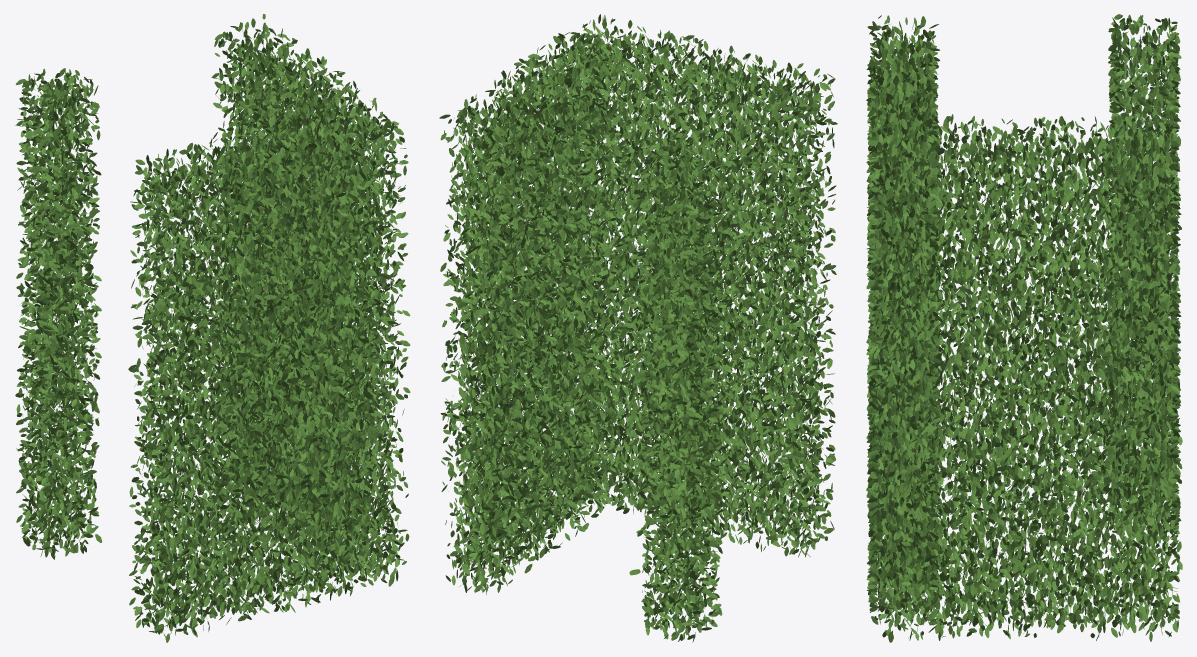
The model's file is L_Path.glb.
3 views of the same model, side by side, from view 1: azimuth 30°, elevation 25°; view 2: azimuth 150°, elevation 25°; view 3: azimuth 270°, elevation 25° (orthographic). The views are drawn at different scales.
Parts seen in each view (by area): view 1: Cube, Cube.001; view 2: Cube, Cube.001; view 3: Cube, Cube.001.
Part boxes in pixels (left/top/right/bottom): Cube: left=128, top=14, right=410, bottom=642; Cube.001: left=15, top=68, right=102, bottom=559; Cube: left=439, top=14, right=837, bottom=594; Cube.001: left=636, top=143, right=723, bottom=642; Cube: left=866, top=15, right=1182, bottom=642; Cube.001: left=1108, top=14, right=1181, bottom=534.
Size of the model in its own units: 5.23 by 9.35 by 5.25.
1 material, 1 textured.
